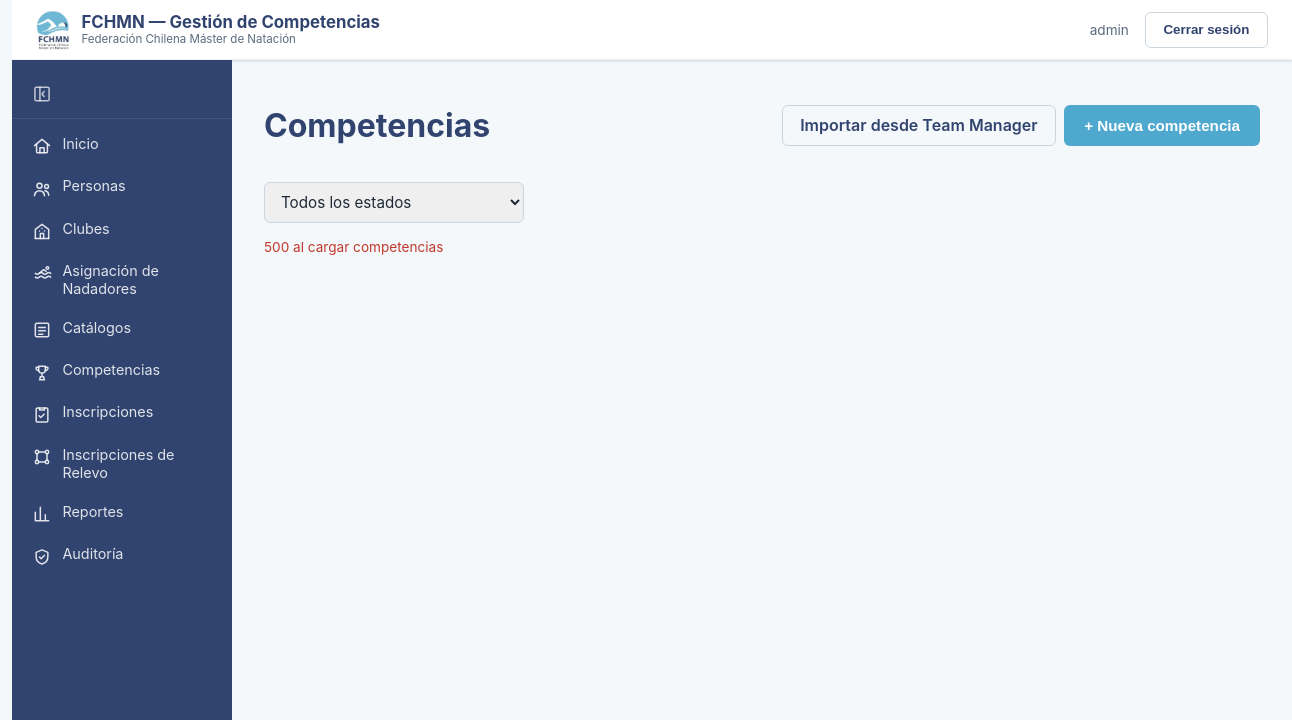
Test: CompetitionsListPage: paginación real › un ERROR de carga se muestra, y un reintento correcto lo BORRA
This screenshot has width=1292, height=720.
expect the text "500 al cargar competencias" is shown: met, box [264, 239, 443, 255]
Reintento por la vía normal: cambiar de filtro dispara otra carga.
Select "Inscripciones cerradas" in the dropdown: (394, 202) [264, 182, 524, 223]
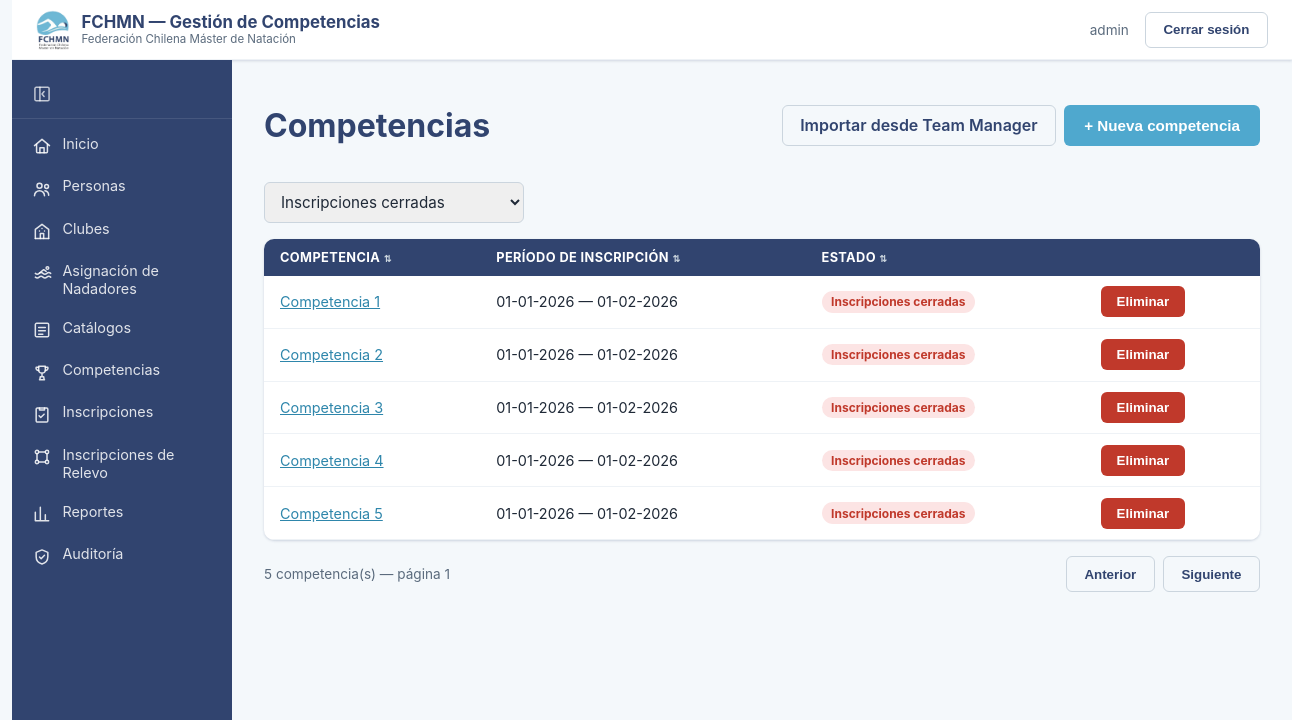
expect the link "Competencia 1" is shown: met, box [280, 293, 380, 310]
expect the text "500 al cargar competencias" is gone: met
